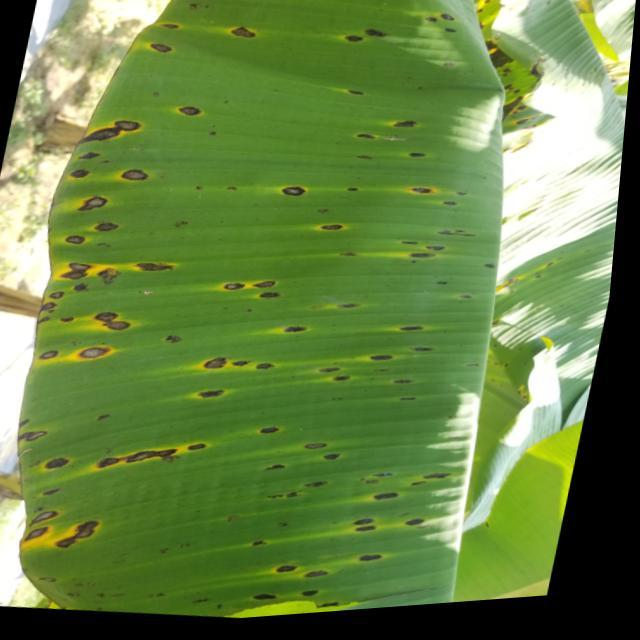Early_rust: (25, 0, 492, 605)
